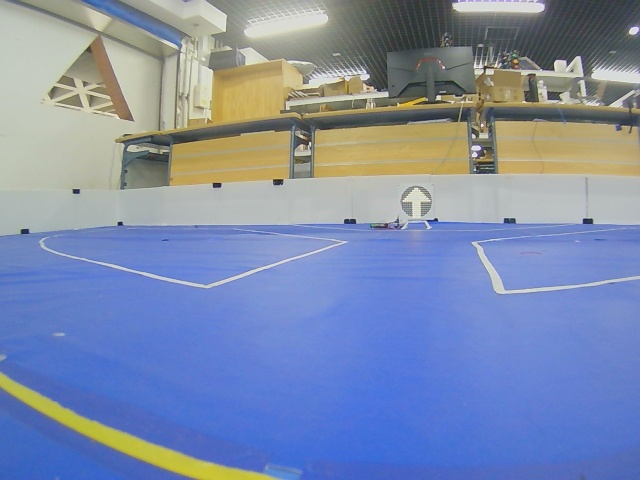straight_yellow: (401, 186, 432, 219)
